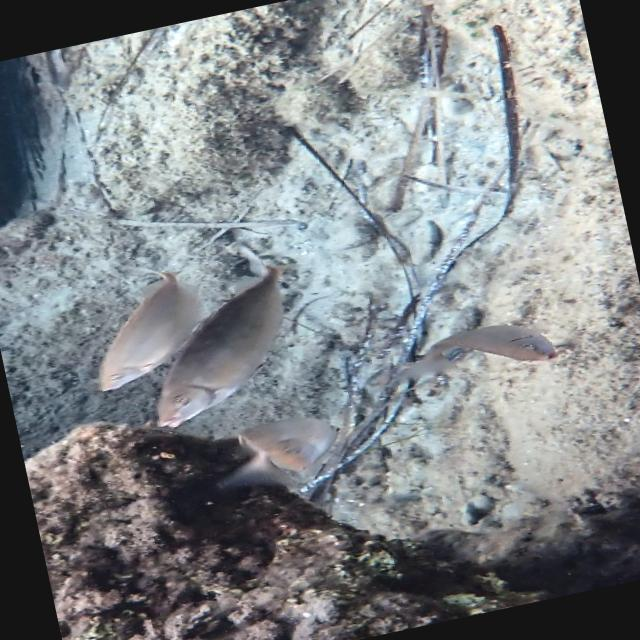Sokar Baligi: (366, 297, 577, 403)
